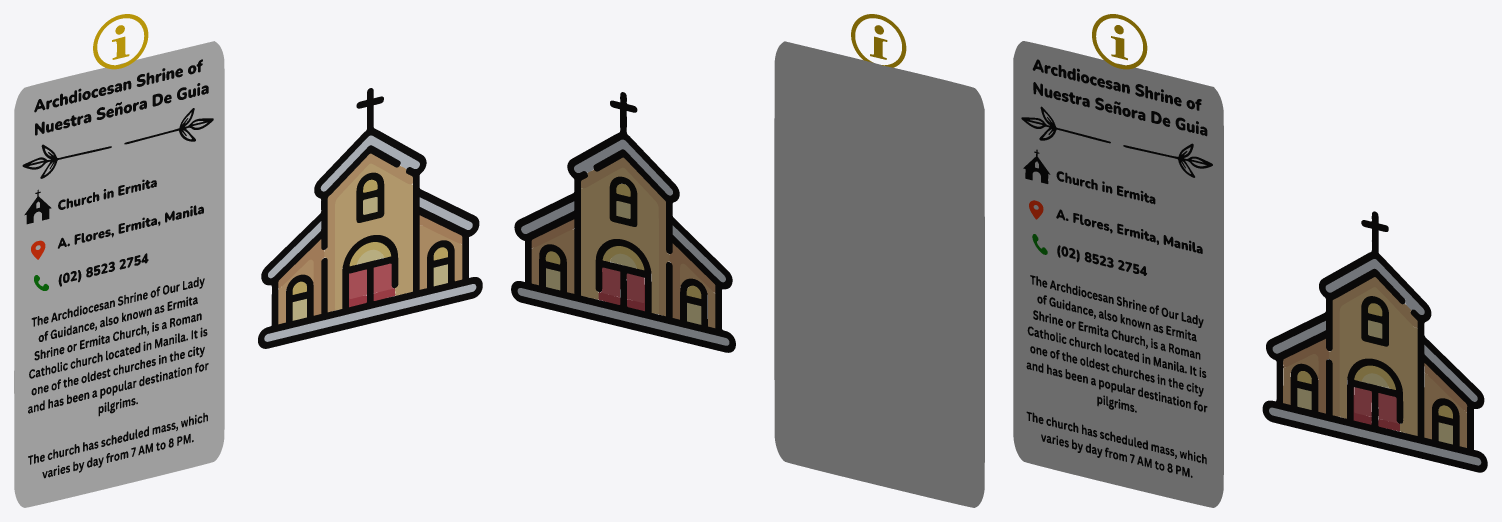
Rendered from CHURCH.fbx.
3 views of the same model, side by side, from view 1: azimuth 30°, elevation 25°; view 2: azimuth 150°, elevation 25°; view 3: azimuth 330°, elevation 25° (orthographic).
Visible parts, largest first — view 1: Curve; view 2: Curve; view 3: Curve.
Part boxes in pixels (x1=…): Curve: x1=14, y1=14, x2=482, y2=507; Curve: x1=511, y1=14, x2=984, y2=507; Curve: x1=1013, y1=14, x2=1487, y2=507.
Bounding box in the file's own units: 65.05 × 62.07 × 0.7588.
